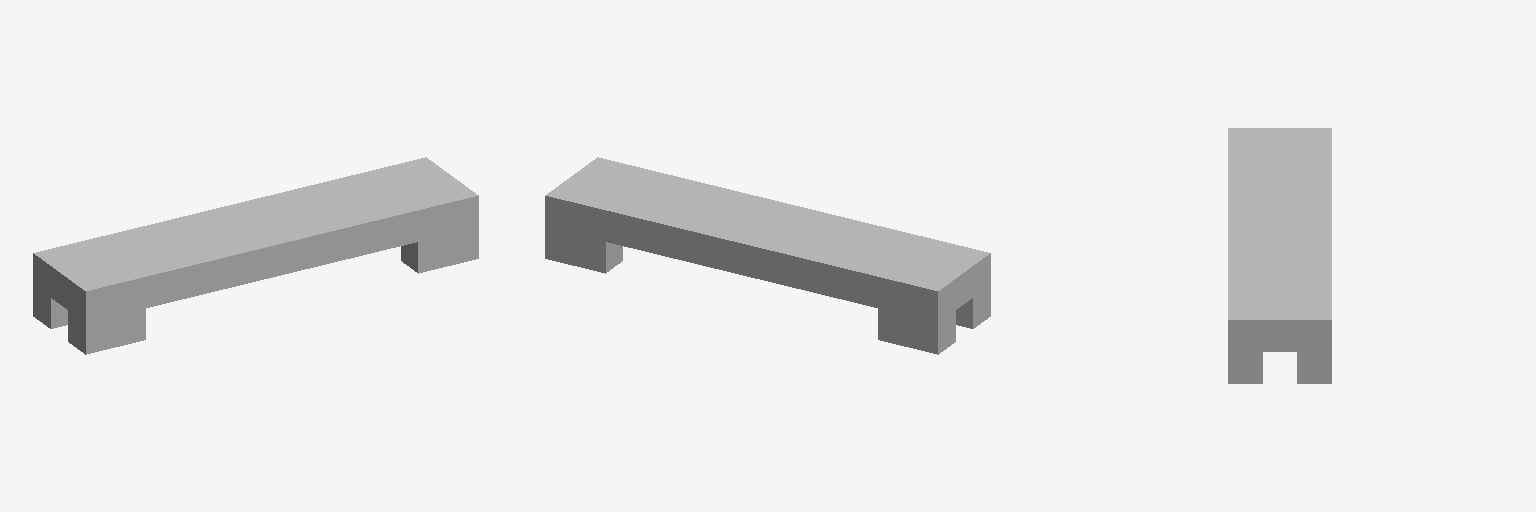
File: log.obj
3 views of the same model, side by side, from view 1: azimuth 30°, elevation 25°; view 2: azimuth 150°, elevation 25°; view 3: azimuth 270°, elevation 25° (orthographic).
Visible parts, largest first — view 1: object 1; view 2: object 1; view 3: object 1.
Boxes of the visible parts, x1=… form: object 1: x1=33, y1=157, x2=478, y2=354; object 1: x1=545, y1=157, x2=990, y2=354; object 1: x1=1228, y1=128, x2=1331, y2=383.
Bounding box in the file's own units: 1.3 × 0.2 × 0.3.